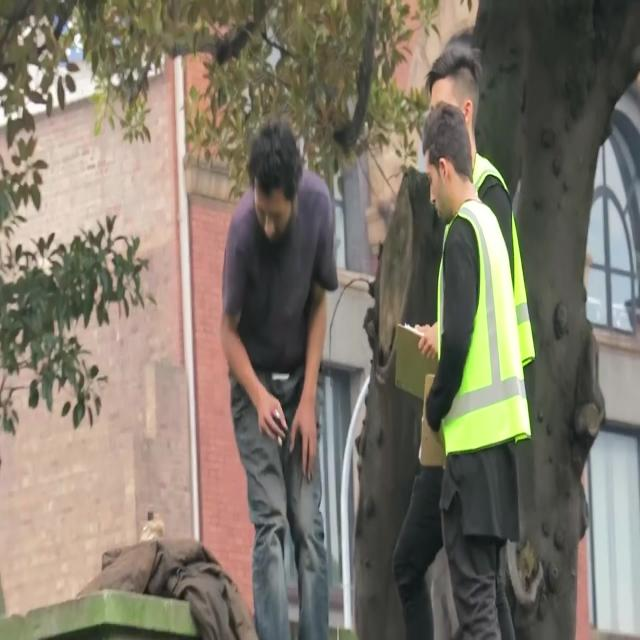Reflective-Jacket: (419, 172, 543, 474)
